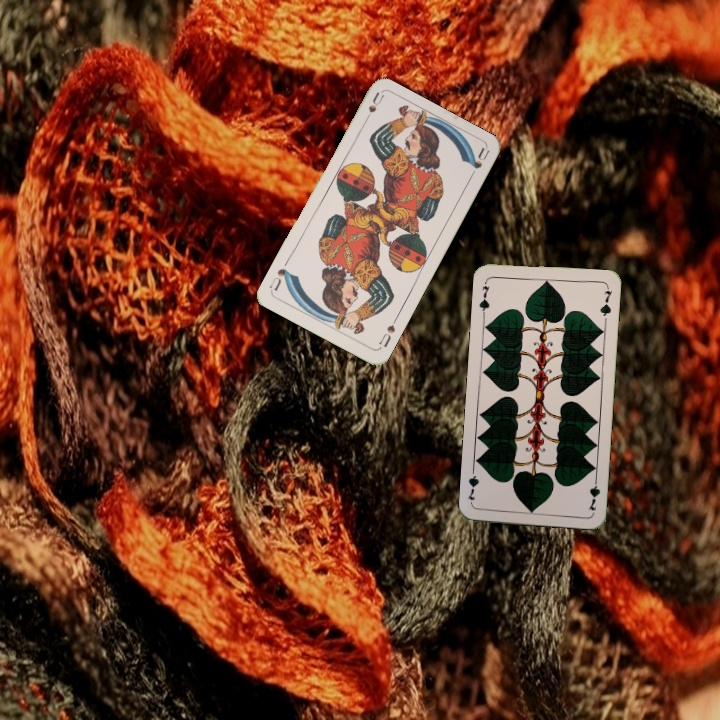G7: (584, 473, 603, 513), (475, 277, 492, 317)
SU: (359, 89, 386, 128), (375, 313, 400, 350)
